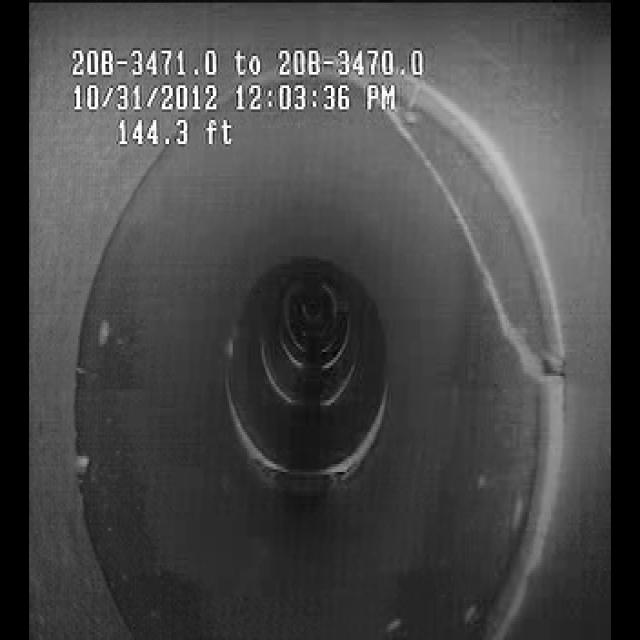Crack: (412, 120, 540, 380)
